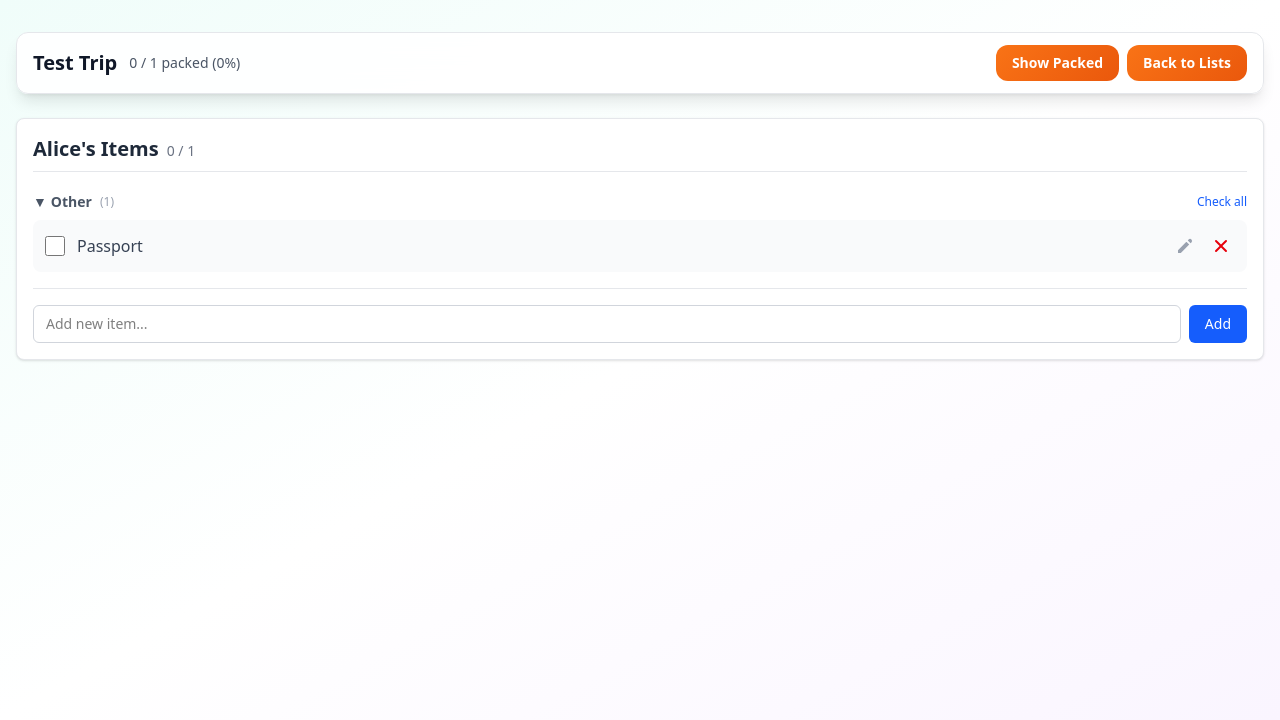
it: ViewPackingList item deletion confirmation › shows confirmation dialog when X is clicked
Expected: the text "Passport" is shown, [77,234,143,258]
Click the button titled "Delete item" at (1221, 246), box [1207,232,1235,260]
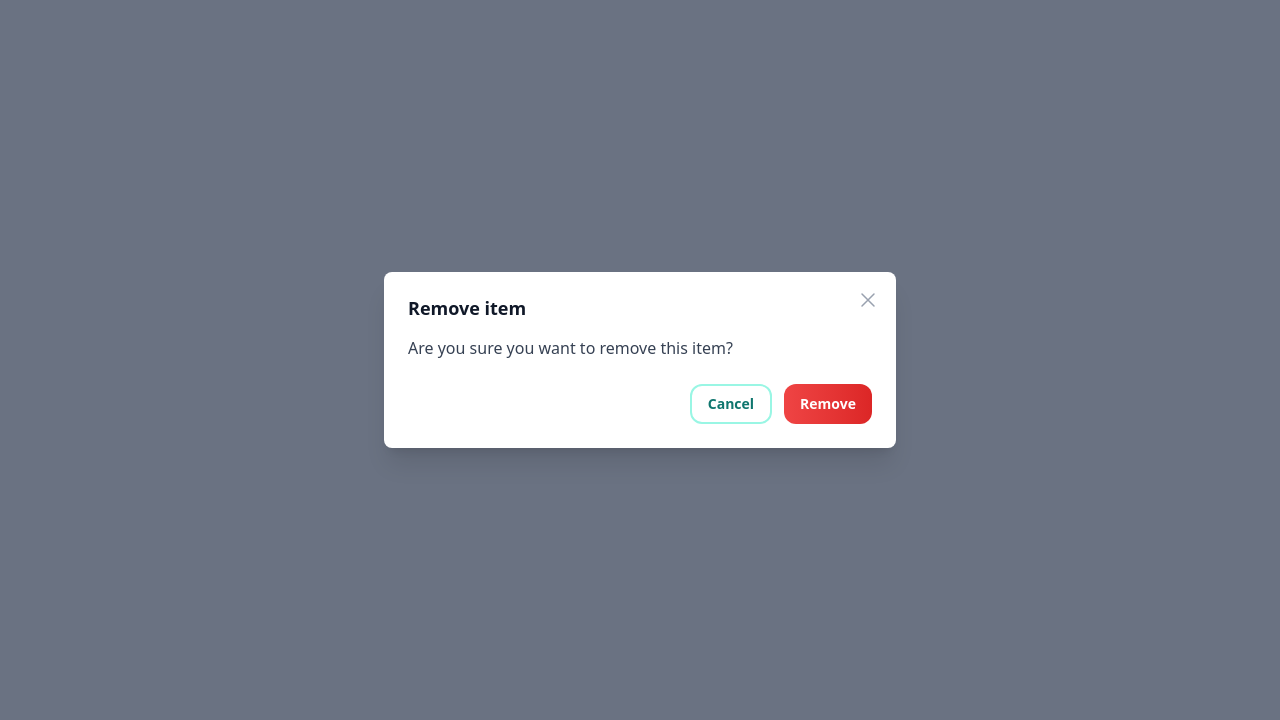
Now the text "Are you sure you want to remove this item?" is shown, box [408,337,733,359]
